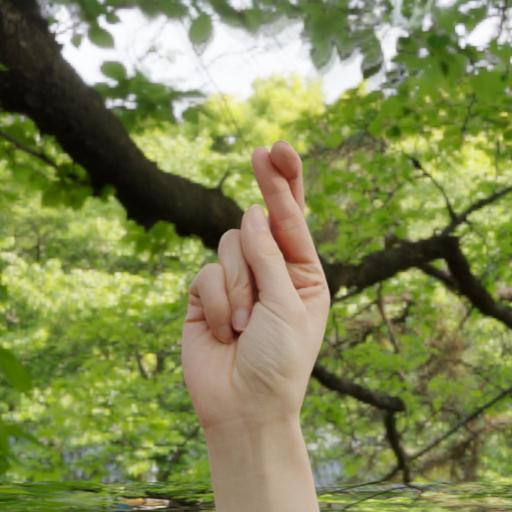R: (180, 135, 339, 453)
